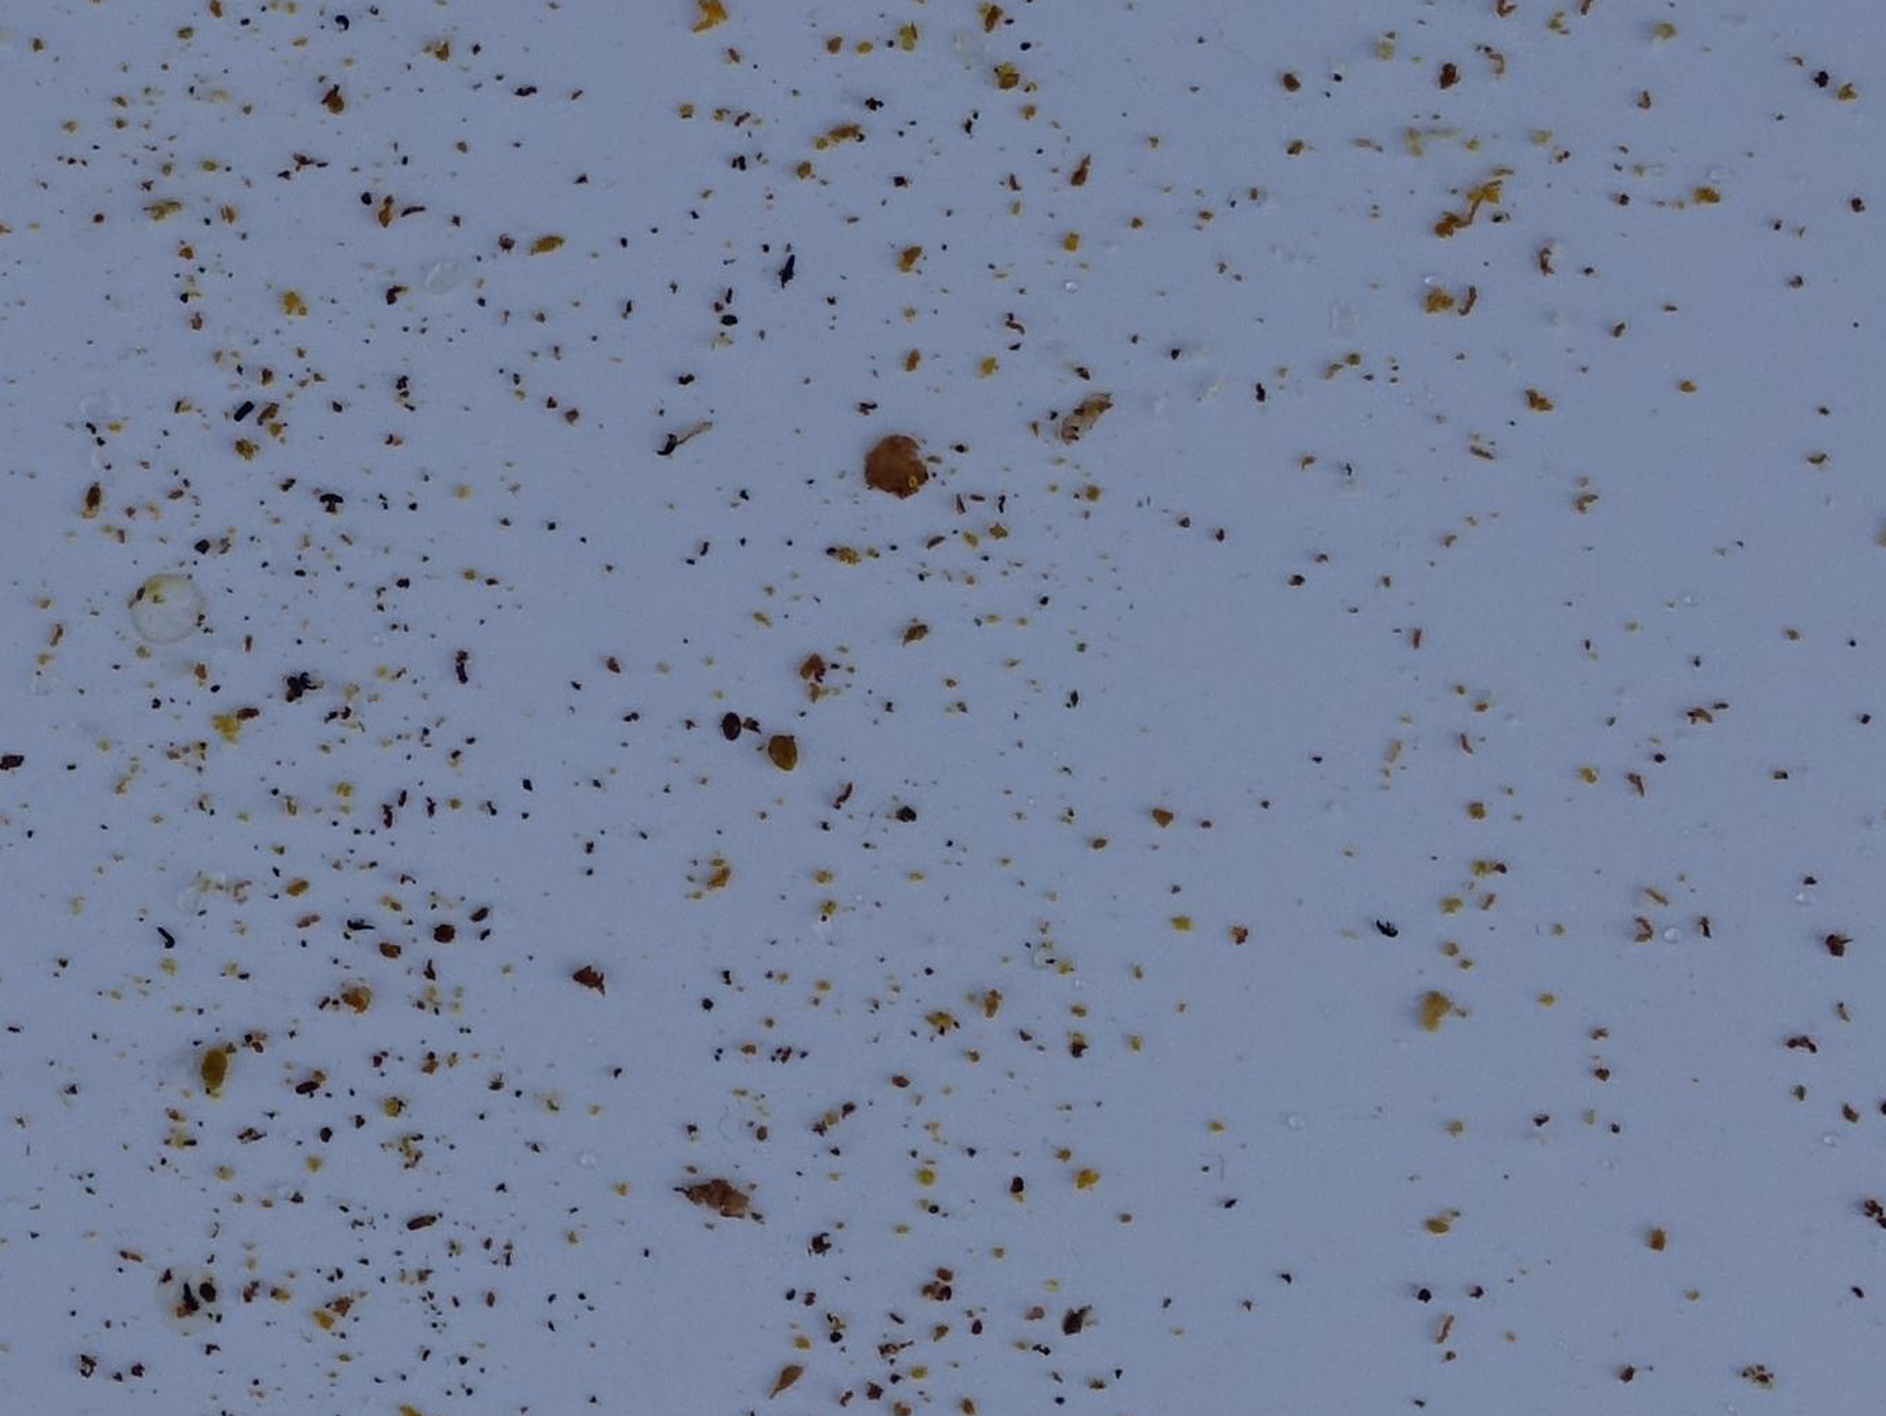Varroa: (709, 704, 753, 747)
